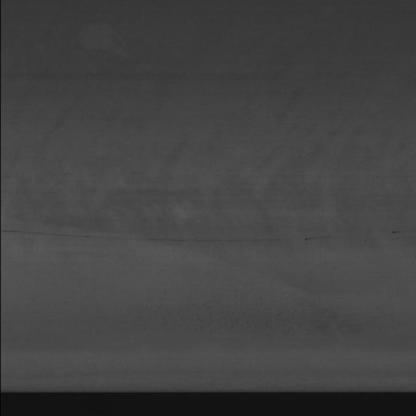inclusion: (6, 222, 409, 247)
